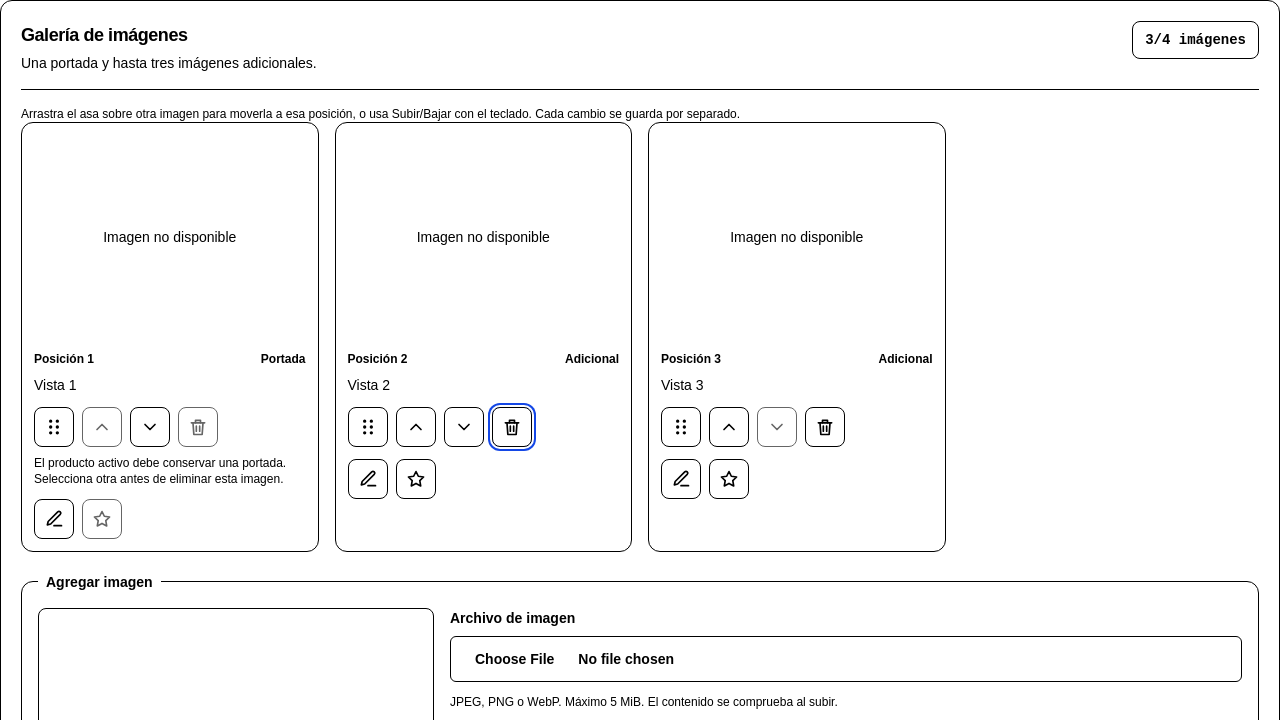
confirmed gallery removal › removes one additional image, refreshes detail/list cache and focuses the next handle
The image size is (1280, 720).
Click the button named "Eliminar Vista 2". click: (512,427)
box: [492,407,532,447]
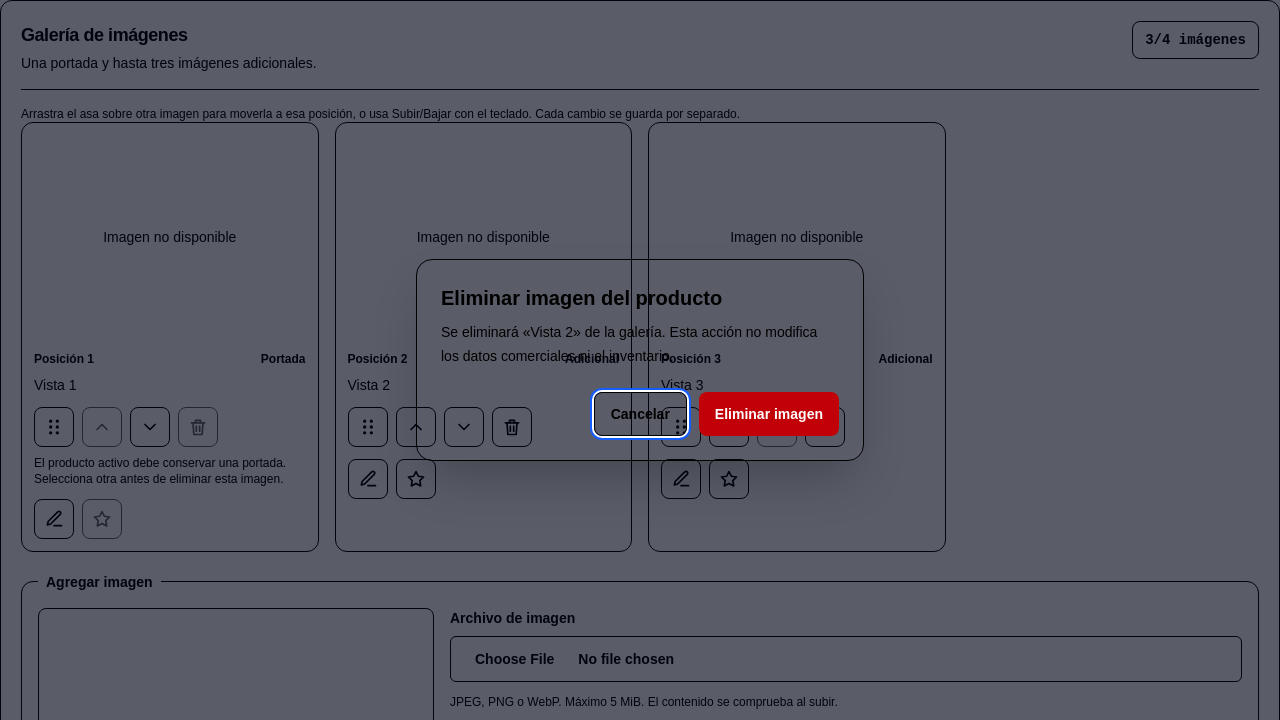
Result: the dialog "Eliminar imagen del producto" is shown at [416,259,864,461]
Click the button "Eliminar imagen". click: (769,414)
box: [699,392,839,436]
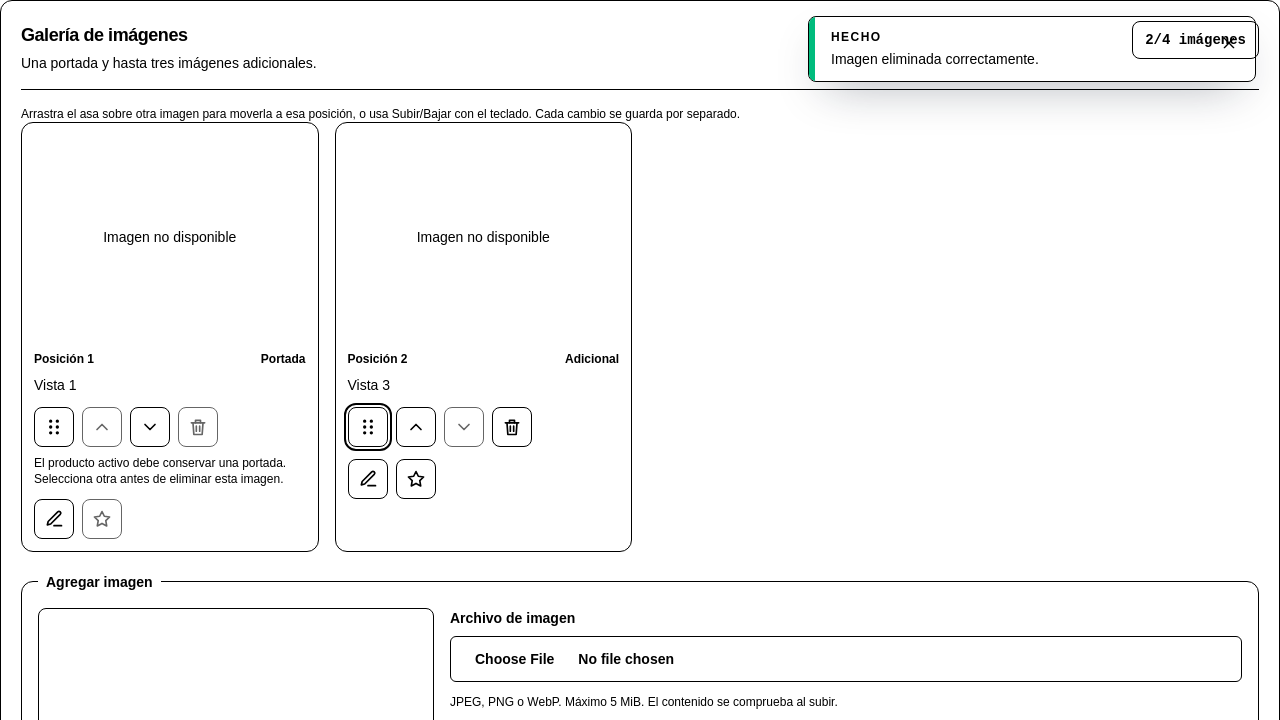
Result: the text named "2 de 4 imágenes" is shown at [1132,21,1259,59]
Result: the text "Imagen eliminada correctamente." is shown at [831,51,1039,67]
